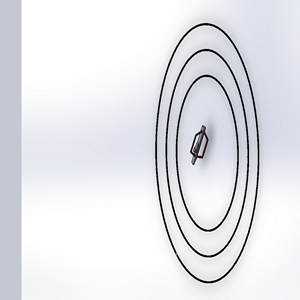circle: (148, 20, 266, 288)
submarine: (185, 121, 219, 170)
